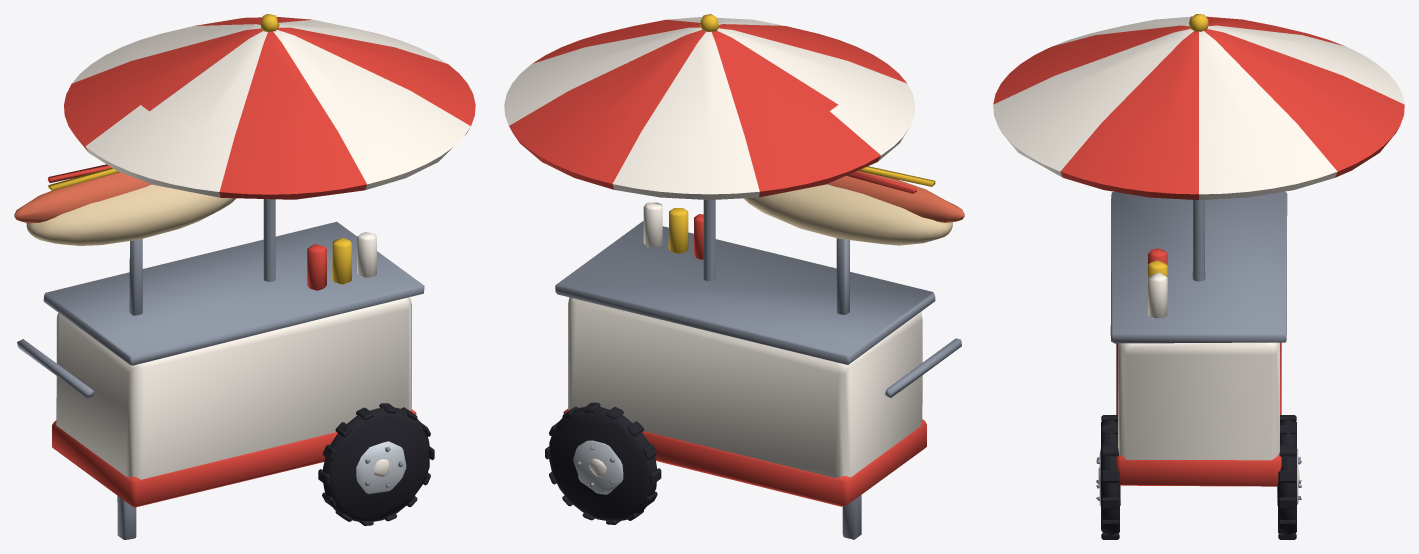
Rendered from hotdog_cart.glb.
3 renders of one model, left to right at view 1: azimuth 30°, elevation 25°; view 2: azimuth 150°, elevation 25°; view 3: azimuth 270°, elevation 25°, orthographic.
Visible parts, largest first — view 1: hotdog_cart; view 2: hotdog_cart; view 3: hotdog_cart.
Boxes of the visible parts, x1,y1,x2,y2 form: hotdog_cart: [14, 14, 475, 539]; hotdog_cart: [504, 14, 964, 539]; hotdog_cart: [993, 14, 1404, 539].
Bounding box in the file's own units: 2.43 × 2.62 × 2.
Materials: 1 (1 with a texture image).
